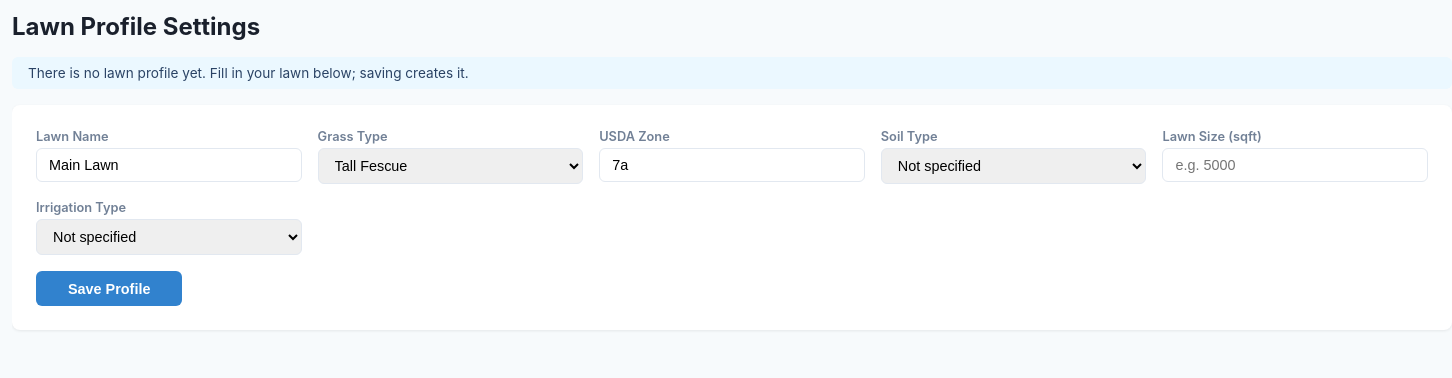
Test: Settings › offers to create the profile when none exists
Expected: the text "There is no lawn profile yet" shows "saving creates it", [28,65,469,81]
Expected: the field labelled "Lawn Name" holds "Main Lawn", [36,148,302,182]
Click the button "Save Profile".
click(109, 289)  # box [36,271,182,306]
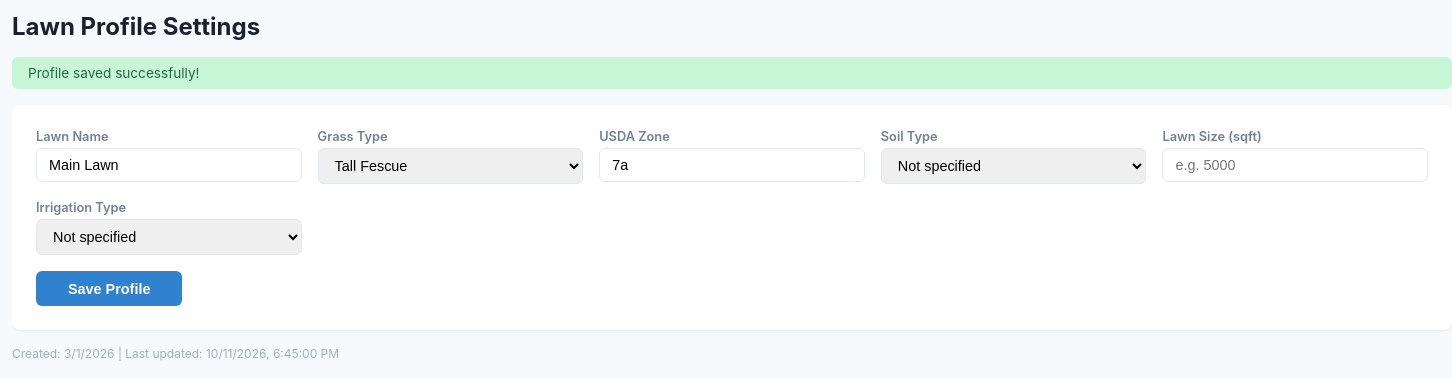
Expected: the text "Profile saved successfully!" is shown, [12,57,1451,89]
Expected: the text "There is no lawn profile yet" is gone
